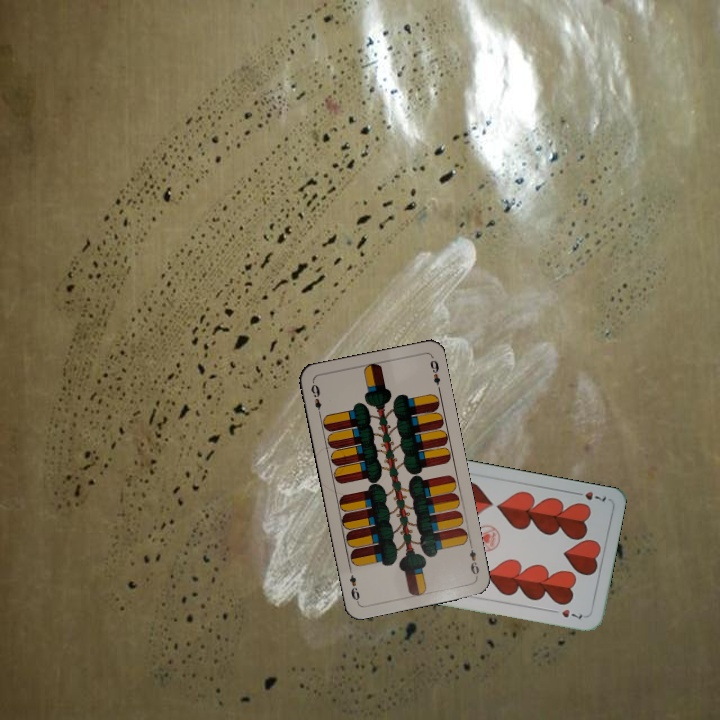E9: (465, 539, 482, 579), (307, 380, 324, 419)
H7: (570, 487, 608, 504)
